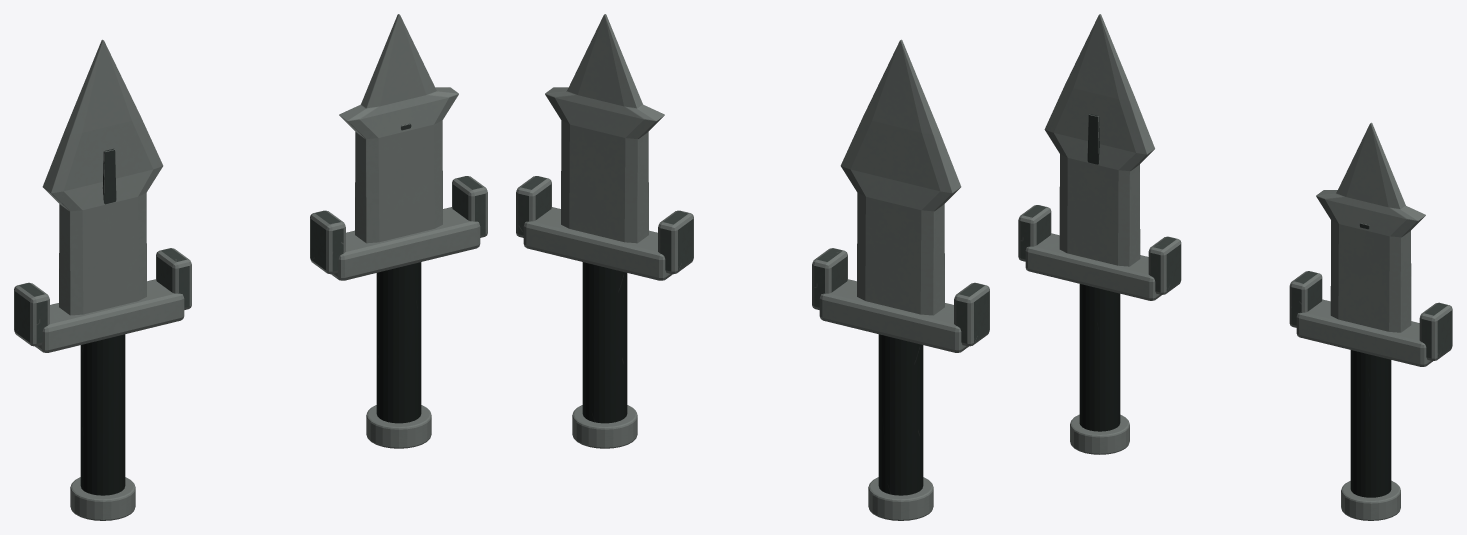
The model's file is dual_blades-t3.glb.
3 renders of one model, left to right at view 1: azimuth 30°, elevation 25°; view 2: azimuth 150°, elevation 25°; view 3: azimuth 330°, elevation 25°, orthographic. The views are drawn at different scales.
Visible parts, largest first — view 1: Forged blade, Forged blade.001, Wrapped handle, Wrapped handle.001, Crossguard, Crossguard.001, Weighted pommel.001, Weighted pommel, Guard return, Guard return.002, Guard return.003, Guard return.001 (+1 smaller); view 2: Forged blade, Forged blade.001, Wrapped handle, Wrapped handle.001, Crossguard, Crossguard.001, Weighted pommel.001, Weighted pommel, Guard return, Guard return.002, Guard return.003, Guard return.001; view 3: Forged blade, Forged blade.001, Wrapped handle.001, Wrapped handle, Crossguard, Crossguard.001, Guard return.001, Guard return.003, Weighted pommel, Weighted pommel.001, Guard return.002, Guard return (+1 smaller).
Part boxes in pixels (<box>): Forged blade: <box>42,39,163,315</box>; Forged blade.001: <box>339,14,458,243</box>; Wrapped handle: <box>80,334,125,495</box>; Wrapped handle.001: <box>376,262,421,423</box>; Crossguard: <box>35,279,184,352</box>; Crossguard.001: <box>331,207,480,280</box>; Weighted pommel.001: <box>366,405,431,448</box>; Weighted pommel: <box>70,477,135,520</box>; Guard return: <box>14,282,49,346</box>; Guard return.002: <box>310,210,345,274</box>; Guard return.003: <box>452,176,487,237</box>; Guard return.001: <box>156,248,191,309</box>; Forged blade: <box>840,39,961,315</box>; Forged blade.001: <box>545,14,664,243</box>; Wrapped handle: <box>878,334,923,495</box>; Wrapped handle.001: <box>582,262,627,423</box>; Crossguard: <box>819,279,968,352</box>; Crossguard.001: <box>523,207,672,280</box>; Weighted pommel.001: <box>572,405,637,448</box>; Weighted pommel: <box>868,477,933,520</box>; Guard return: <box>954,282,989,346</box>; Guard return.002: <box>658,210,693,274</box>; Guard return.003: <box>516,176,551,237</box>; Guard return.001: <box>812,248,847,309</box>; Forged blade: <box>1044,14,1154,266</box>; Forged blade.001: <box>1316,122,1425,332</box>; Wrapped handle.001: <box>1350,350,1391,497</box>; Wrapped handle: <box>1079,284,1120,431</box>; Crossguard: <box>1025,233,1161,300</box>; Crossguard.001: <box>1296,299,1432,366</box>; Guard return.001: <box>1148,236,1181,294</box>; Guard return.003: <box>1419,302,1452,360</box>; Weighted pommel: <box>1070,414,1129,454</box>; Weighted pommel.001: <box>1341,480,1400,520</box>; Guard return.002: <box>1289,271,1322,327</box>; Guard return: <box>1018,205,1051,261</box>.
Bounding box in the file's own units: 1.55 × 1.51 × 0.192.
Materials: 4 (4 with a texture image).
